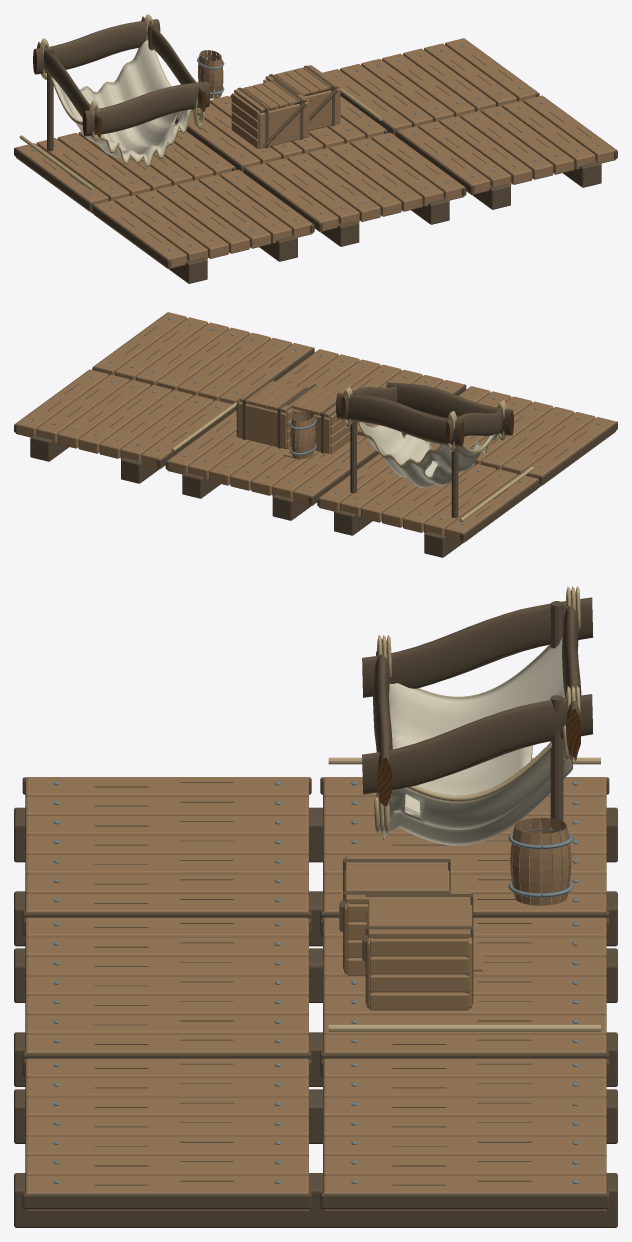
File: raft_initial_v001.glb
3 renders of one model, top to bottom at view 1: azimuth 30°, elevation 25°; view 2: azimuth 150°, elevation 25°; view 3: azimuth 270°, elevation 25°, orthographic. The views are drawn at different scales.
Visible parts, largest first — view 1: GEO-root-decor-2742.001, GEO-deck-intact-378.002, GEO-deck-intact-378.004, GEO-deck-intact-378.003, GEO-deck-intact-378.001, GEO-root-decor-736.001, GEO-root-decor-1428.001, GEO-root-decor-2208.001, GEO-deck-intact-972.002, GEO-deck-intact-972.003, GEO-deck-intact-972.004, GEO-root-decor-1440.001 (+1 smaller); view 2: GEO-root-decor-2742.001, GEO-deck-intact-378.001, GEO-deck-intact-378.004, GEO-root-decor-736.001, GEO-deck-intact-378.002, GEO-root-decor-2208.001, GEO-deck-intact-378.003, GEO-root-decor-1428.001, GEO-deck-intact-972.001, GEO-root-decor-1440.001, GEO-deck-intact-972.002, GEO-deck-intact-972.004 (+1 smaller); view 3: GEO-root-decor-2742.001, GEO-deck-intact-378.001, GEO-deck-intact-378.004, GEO-deck-intact-378.003, GEO-deck-intact-378.002, GEO-root-decor-736.001, GEO-root-decor-1428.001, GEO-deck-intact-972.001, GEO-deck-intact-972.004, GEO-root-decor-2208.001, GEO-root-decor-1440.001, GEO-deck-intact-972.002 (+2 smaller).
Part boxes in pixels (x1,y1,x2,y2): GEO-root-decor-2742.001: (16,50,385,211); GEO-deck-intact-378.002: (94,169,312,268); GEO-deck-intact-378.004: (397,95,616,194); GEO-deck-intact-378.003: (246,132,464,231); GEO-deck-intact-378.001: (322,38,537,130); GEO-root-decor-736.001: (33,16,209,137); GEO-root-decor-1428.001: (52,40,190,165); GEO-root-decor-2208.001: (14,24,387,214); GEO-deck-intact-972.002: (92,170,314,283); GEO-deck-intact-972.003: (244,133,466,246); GEO-deck-intact-972.004: (395,96,617,209); GEO-root-decor-1440.001: (19,14,382,190); GEO-root-decor-2742.001: (167,379,537,542); GEO-deck-intact-378.001: (16,369,232,468); GEO-deck-intact-378.004: (94,312,312,404); GEO-root-decor-736.001: (336,382,513,446); GEO-deck-intact-378.002: (403,386,615,485); GEO-root-decor-2208.001: (165,379,539,557); GEO-deck-intact-378.003: (276,349,464,438); GEO-root-decor-1428.001: (360,422,497,487); GEO-deck-intact-972.001: (14,370,236,483); GEO-root-decor-1440.001: (171,387,533,522); GEO-deck-intact-972.002: (404,386,617,487); GEO-deck-intact-972.004: (92,312,314,409); GEO-root-decor-2742.001: (323,777,606,1052); GEO-deck-intact-378.001: (323,1058,606,1212); GEO-deck-intact-378.004: (25,1058,308,1212); GEO-deck-intact-378.003: (25,917,308,1052); GEO-deck-intact-378.002: (25,777,308,911); GEO-root-decor-736.001: (362,591,593,806); GEO-root-decor-1428.001: (383,637,572,845); GEO-deck-intact-972.001: (314,1059,617,1227); GEO-deck-intact-972.004: (14,1059,317,1227); GEO-root-decor-2208.001: (314,601,617,1086); GEO-root-decor-1440.001: (328,586,600,1031); GEO-deck-intact-972.002: (14,777,317,946).
Size of the model in its own units: 6.98 by 2.03 by 4.26.
6 materials, 1 textured.
